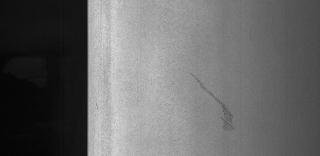water spot: (186, 68, 242, 140)
